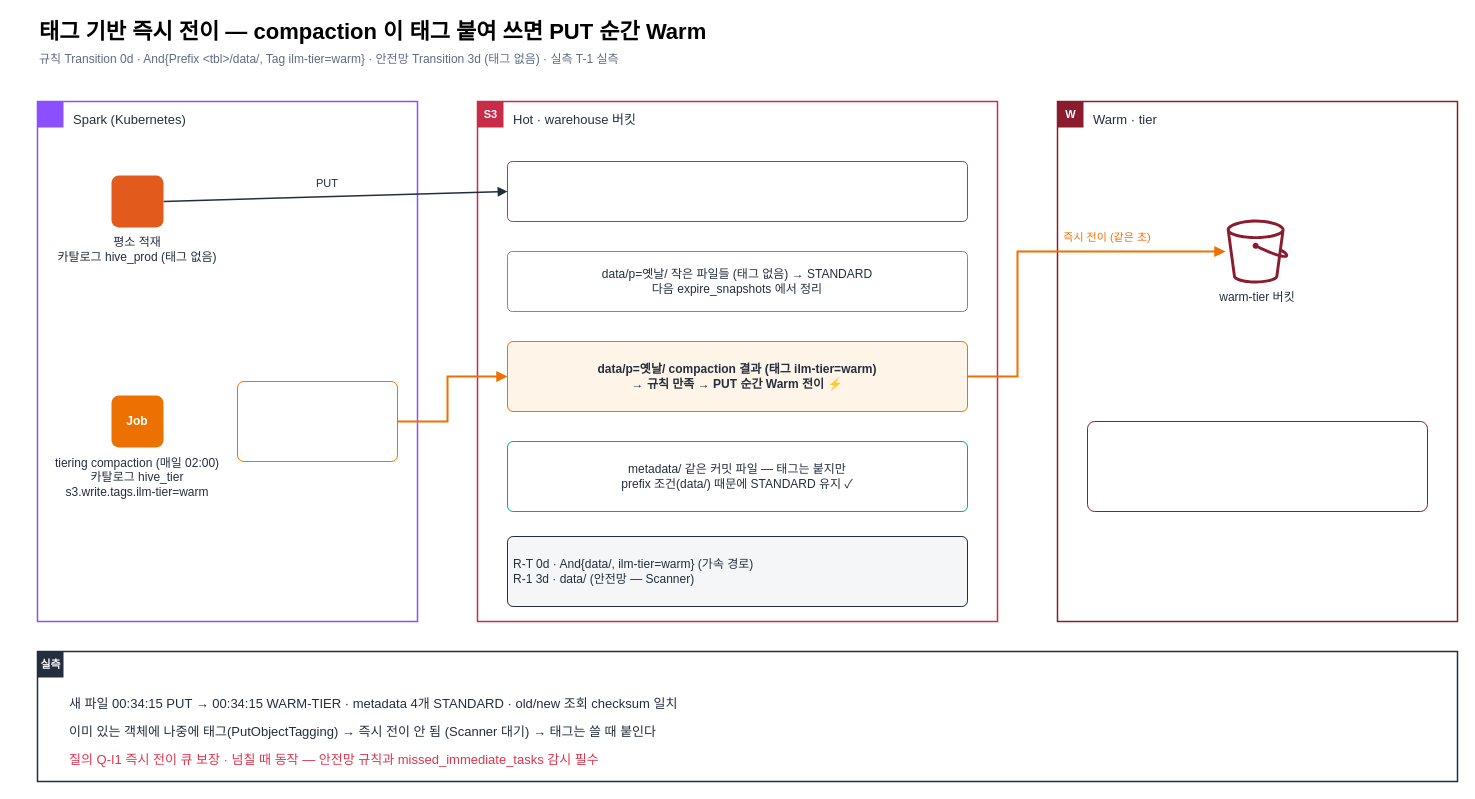
Some shapes in this 1475 by 799 pixel diagram are drawn without their labels. Here are the shapes that lost their labels. From the top down, the box of each, then its label:
(37, 101, 63, 127): k8s
(111, 175, 163, 227): Spark
(506, 160, 968, 222): data/p=오늘/ 새 파일 (태그 없음) → STANDARD
(236, 380, 398, 462): rewrite_data_files where: < 오늘-1일 4 파일 → 1 파일
(1086, 420, 1428, 512): compaction 된 큰 파일만 도착 → Warm 파일 수 ↓ · Warm 경유 읽기 ↓
(36, 650, 1458, 782): T-1 실측 · 한계
